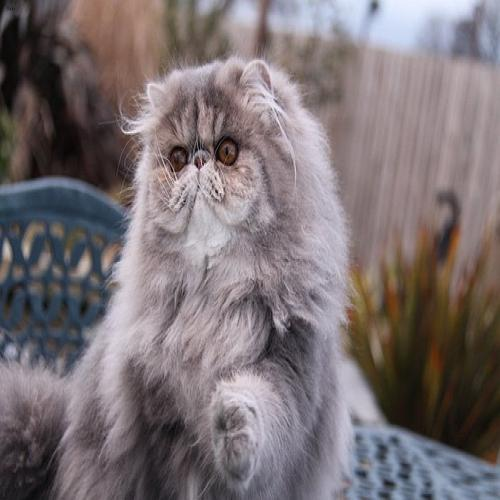persian: (115, 50, 296, 265)
